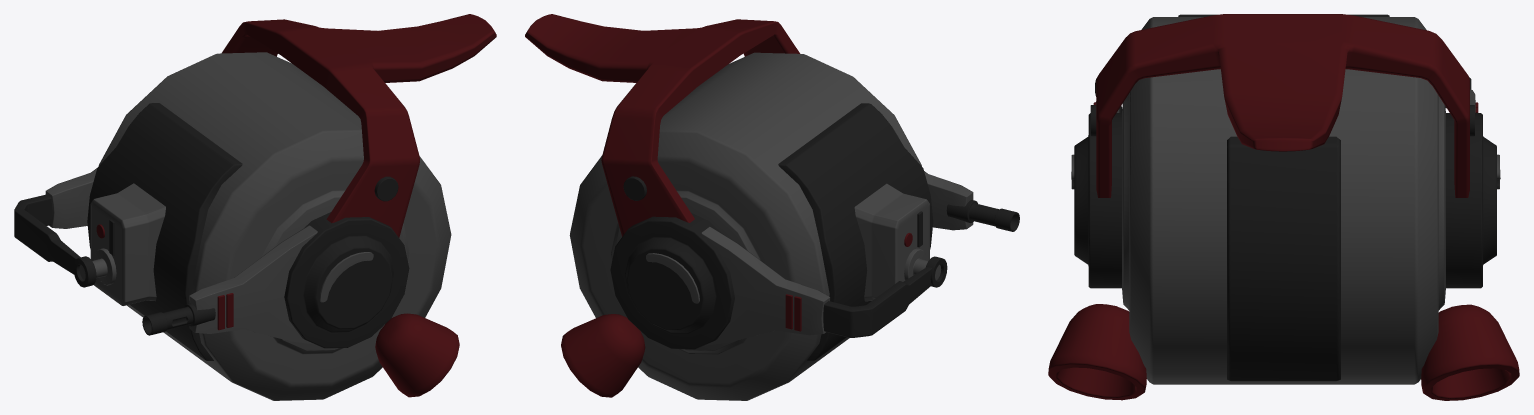
File: colony_Drone_earner.glb
The picture shows the model from 3 angles, left to right: view 1: azimuth 30°, elevation 25°; view 2: azimuth 150°, elevation 25°; view 3: azimuth 270°, elevation 25°; orthographic projection. The views are drawn at different scales.
Parts seen in each view (by area): view 1: Drone_earner; view 2: Drone_earner; view 3: Drone_earner.
Boxes of the visible parts, x1,y1,x2,y2 form: Drone_earner: [14, 14, 496, 400]; Drone_earner: [525, 14, 1019, 400]; Drone_earner: [1048, 14, 1519, 400].
Size of the model in its own units: 331 by 231 by 263.
Materials: 1 (1 with a texture image).
